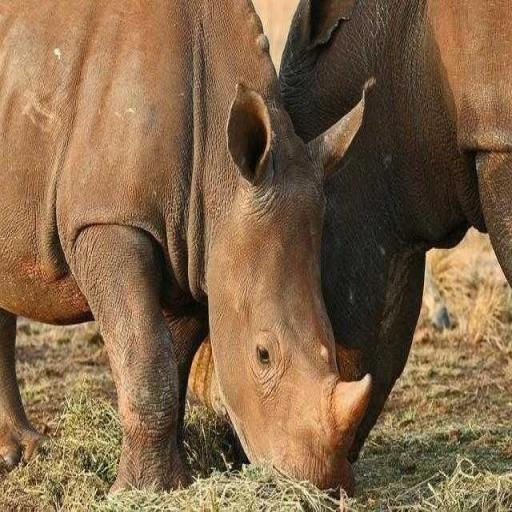Rhino: (0, 0, 374, 501), (277, 0, 511, 477)
